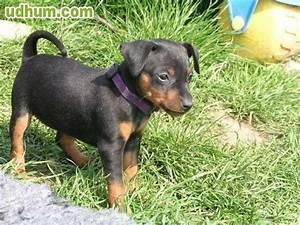dog: (1, 28, 200, 215)
